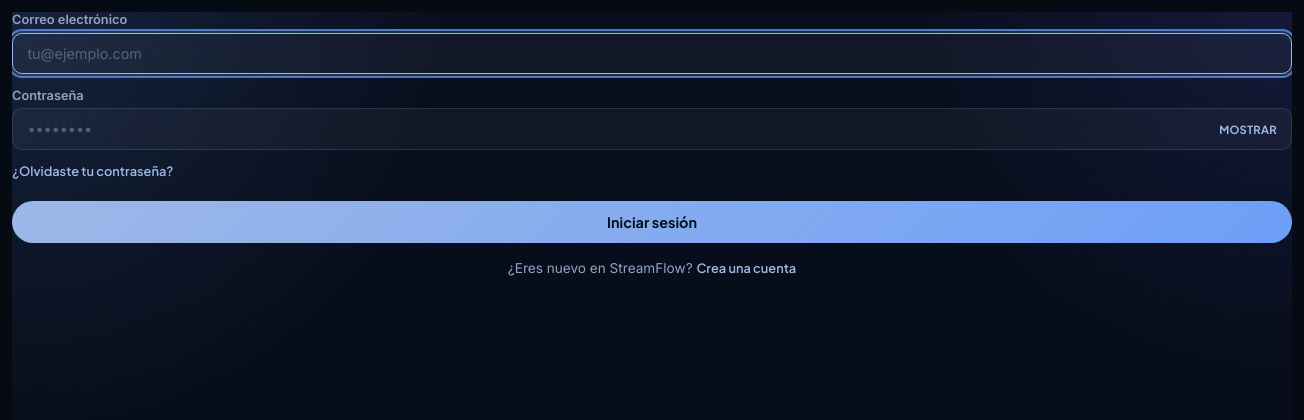
Test: auth forms render translated errors, never the raw message › LoginForm renders the Spanish copy when the language is Spanish
In the field labelled "Correo electrónico": (652, 53) [12, 33, 1292, 74], type "a@b.co"
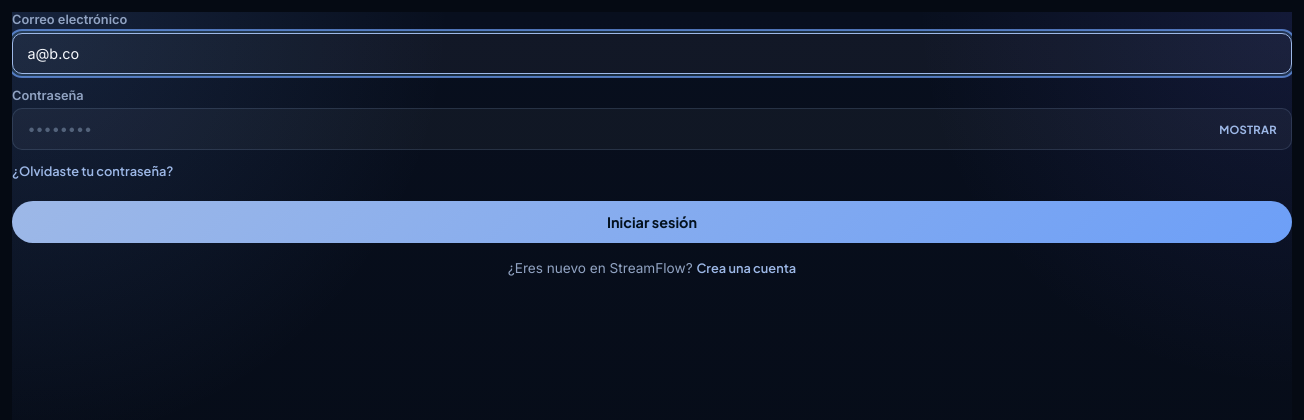
In the password field labelled "Contraseña Mostrar": (652, 129) [12, 108, 1292, 150], type "whatever"
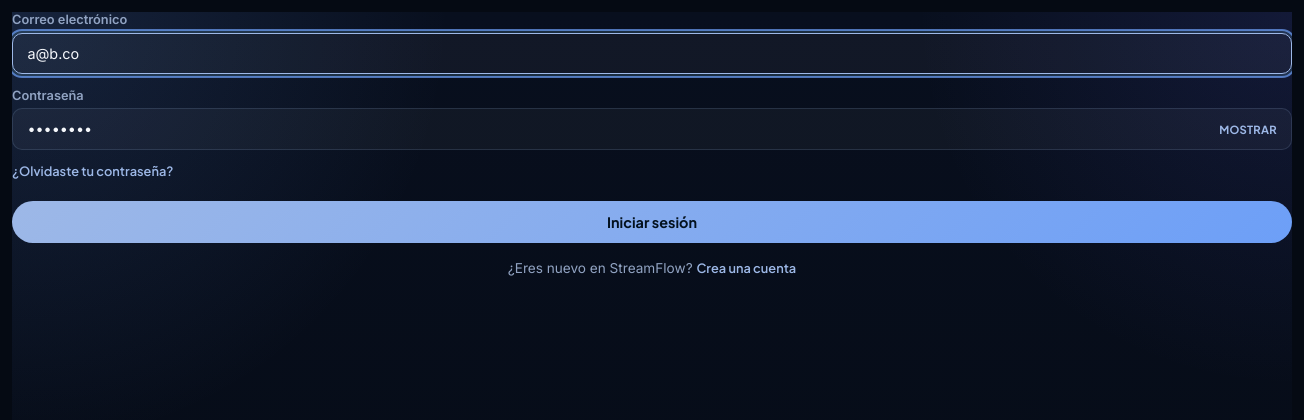
Click the button "Iniciar sesión": (652, 222) [12, 201, 1292, 243]
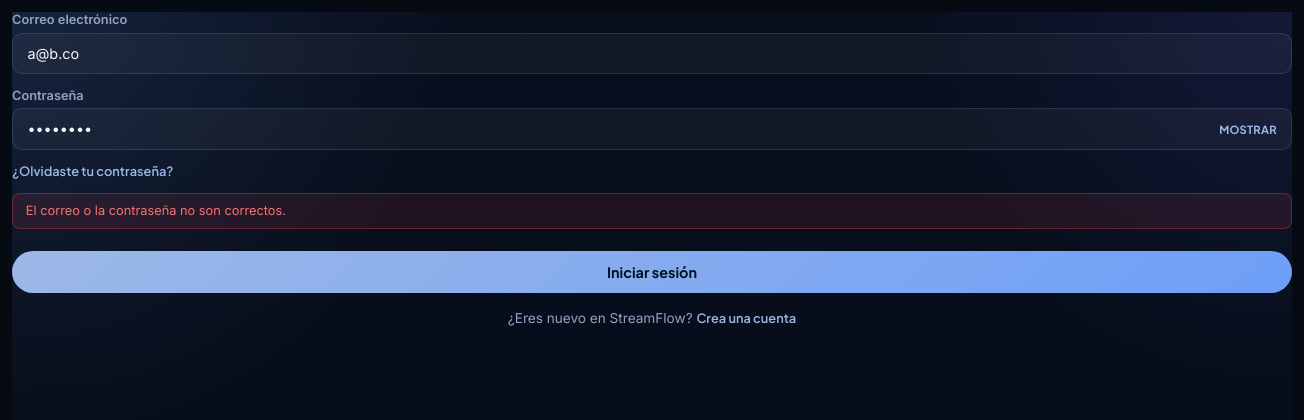
Now the message reads "El correo o la contraseña no son correctos.", box [26, 203, 286, 218]
